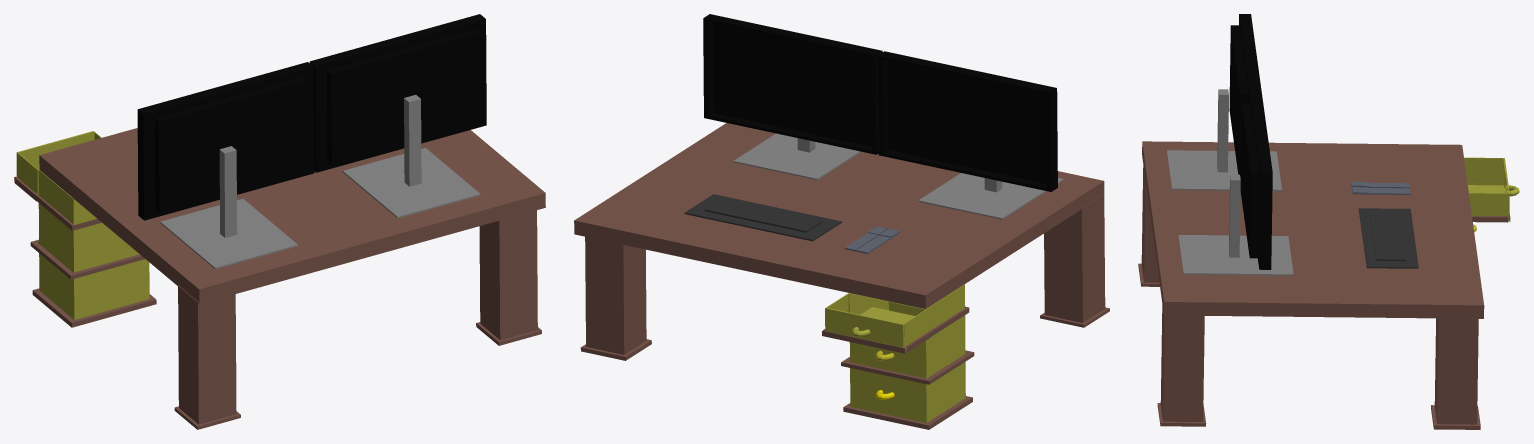
The model's file is masa001.fbx.
3 renders of one model, left to right at view 1: azimuth 30°, elevation 25°; view 2: azimuth 150°, elevation 25°; view 3: azimuth 270°, elevation 25°, orthographic. The views are drawn at different scales.
Parts seen in each view (by area): view 1: Halka.003; view 2: Halka.003; view 3: Halka.003.
Boxes of the visible parts, x1,y1,x2,y2 form: Halka.003: (14, 14, 545, 429); Halka.003: (574, 14, 1109, 429); Halka.003: (1138, 14, 1519, 429).
Bounding box in the file's own units: 136 × 95.41 × 130.
